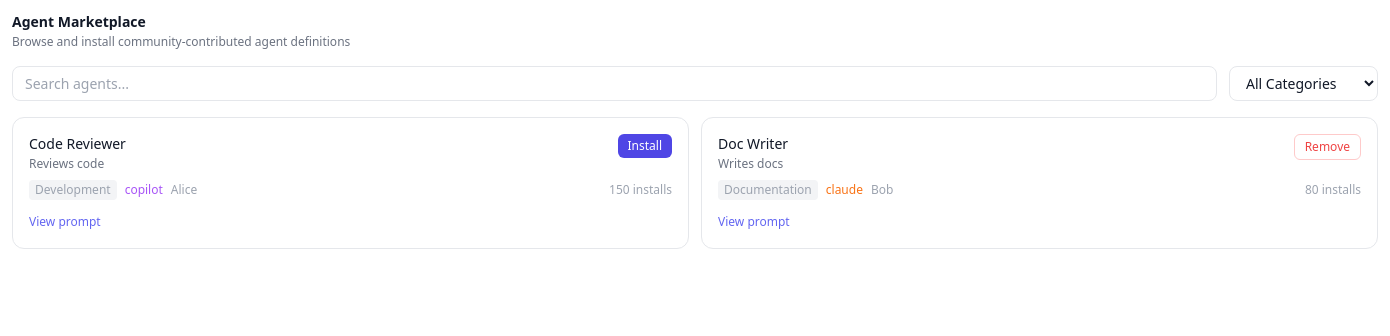
AgentMarketplace › toggles prompt visibility when View prompt is clicked
Click the button "View prompt" below "Development" at (65, 222), box [29,214,101,230]
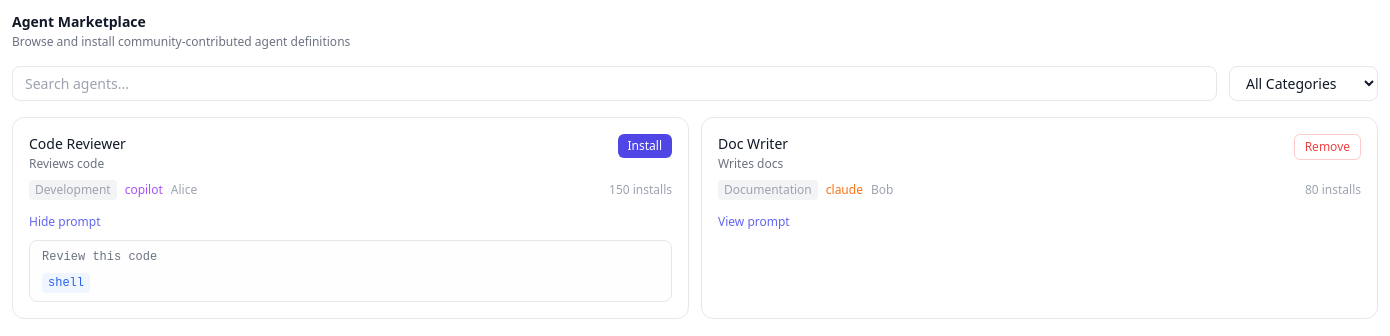
Now the text "Review this code" is shown, box [42,250,157,264]
Now the button "Hide prompt" is shown, box [29,214,100,230]
